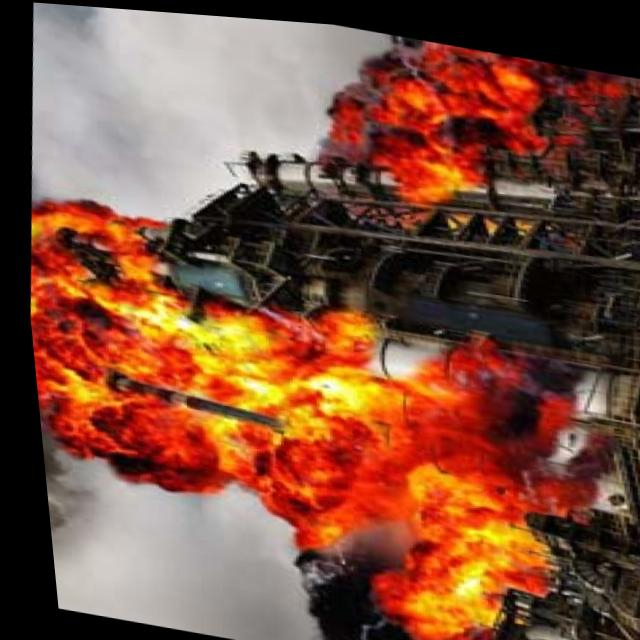Fire: (17, 220, 356, 513), (301, 18, 580, 240), (334, 444, 597, 640)
